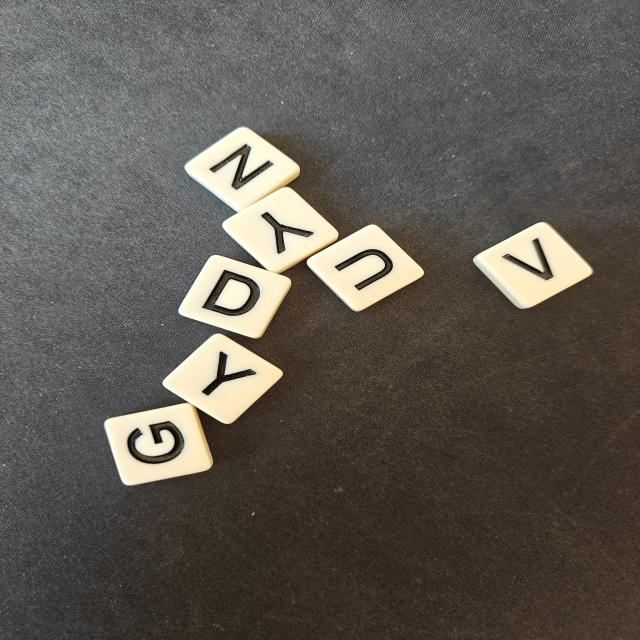d: (179, 255, 291, 338)
g: (105, 403, 213, 485)
n: (185, 127, 300, 211)
u: (307, 225, 424, 311)
v: (473, 222, 592, 308)
y: (163, 334, 283, 423), (223, 187, 338, 273)
